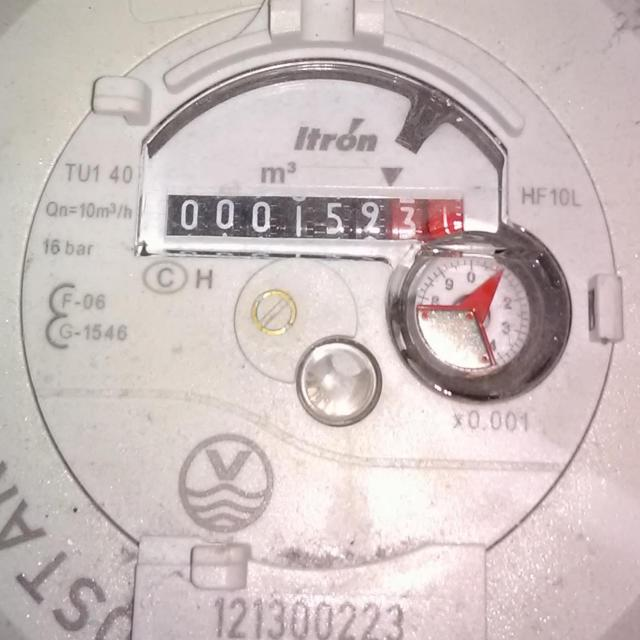gaz_meter: (24, 4, 616, 572)
indication: (161, 190, 468, 244)
